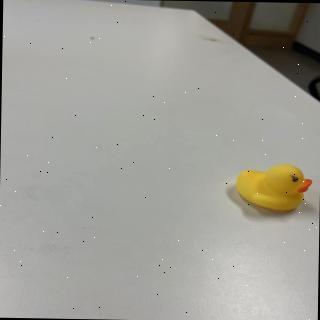duck_regular: (234, 163, 314, 213)
